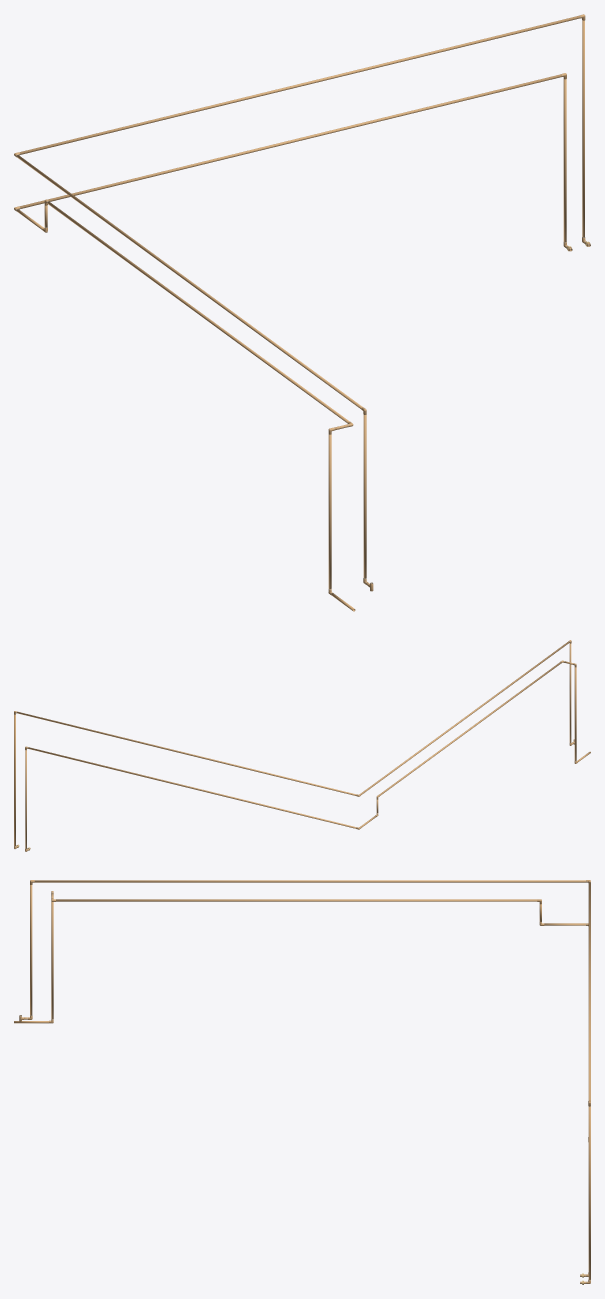
The model's file is slab_pipes_supply__water_heater-garage_electric_tankless_and_plumbing-copper.glb.
3 views of the same model, one above another, from view 1: azimuth 30°, elevation 25°; view 2: azimuth 150°, elevation 25°; view 3: azimuth 270°, elevation 25° (orthographic). The views are drawn at different scales.
Visible parts, largest first — view 1: pipe_supply_hot_wh_etankless__copper, pipe_supply_cold_wh_etankless__copper; view 2: pipe_supply_cold_wh_etankless__copper, pipe_supply_hot_wh_etankless__copper; view 3: pipe_supply_cold_wh_etankless__copper, pipe_supply_hot_wh_etankless__copper.
Part boxes in pixels (bbox=[...]): pipe_supply_hot_wh_etankless__copper: bbox=[16, 74, 567, 611]; pipe_supply_cold_wh_etankless__copper: bbox=[16, 15, 584, 585]; pipe_supply_cold_wh_etankless__copper: bbox=[14, 641, 573, 847]; pipe_supply_hot_wh_etankless__copper: bbox=[25, 661, 590, 848]; pipe_supply_cold_wh_etankless__copper: bbox=[24, 880, 590, 1283]; pipe_supply_hot_wh_etankless__copper: bbox=[14, 892, 585, 1276].
Size of the model in its own units: 5.16 by 1.9 by 5.43.
